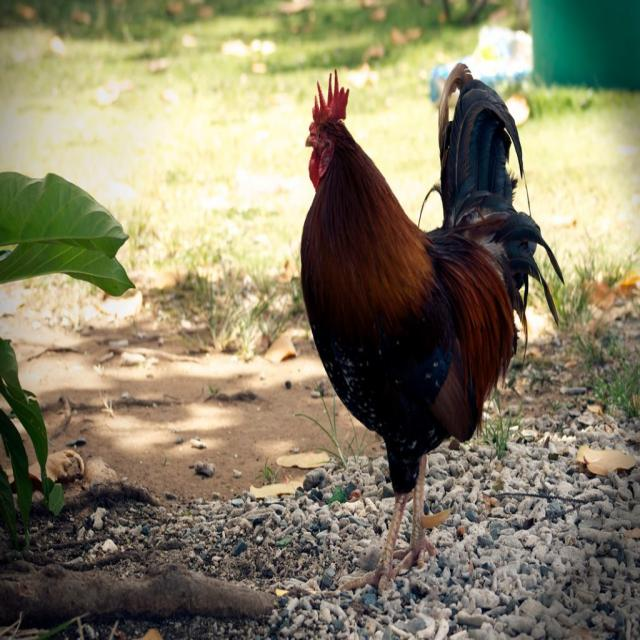Chicken: (299, 63, 565, 595)
